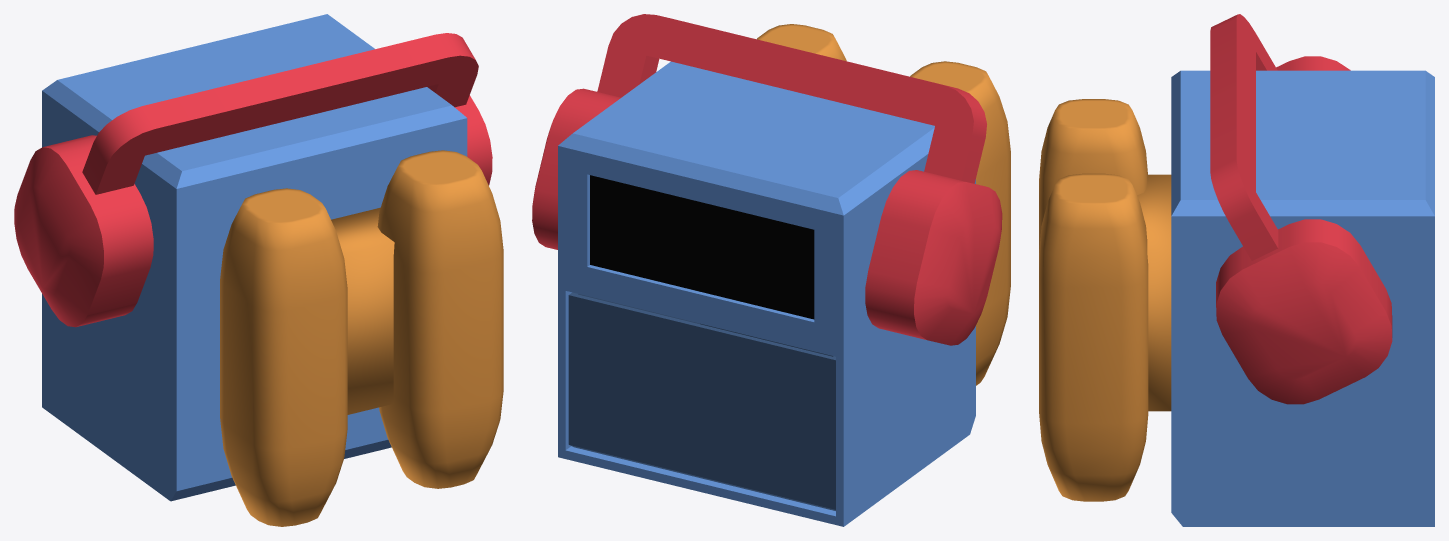
Rendered from Roborne_v1.fbx.
The picture shows the model from 3 angles, left to right: view 1: azimuth 30°, elevation 25°; view 2: azimuth 150°, elevation 25°; view 3: azimuth 270°, elevation 25°; orthographic projection.
Parts seen in each view (by area): view 1: Turbo, Roborne, Headphone; view 2: Roborne, Headphone, Hinge, Turbo, Locker; view 3: Roborne, Turbo, Headphone.
Part boxes in pixels (x1,y1,x2,y2): Turbo: (220,150,503,526); Roborne: (42,14,467,501); Headphone: (14,33,492,327); Roborne: (558,61,975,526); Headphone: (532,14,1002,345); Hinge: (584,297,823,491); Turbo: (757,24,1010,385); Locker: (568,292,835,510); Roborne: (1171,70,1434,526); Turbo: (1039,99,1171,501); Headphone: (1210,14,1392,404).
Bounding box in the file's own units: 2.89 × 2.47 × 2.4.
